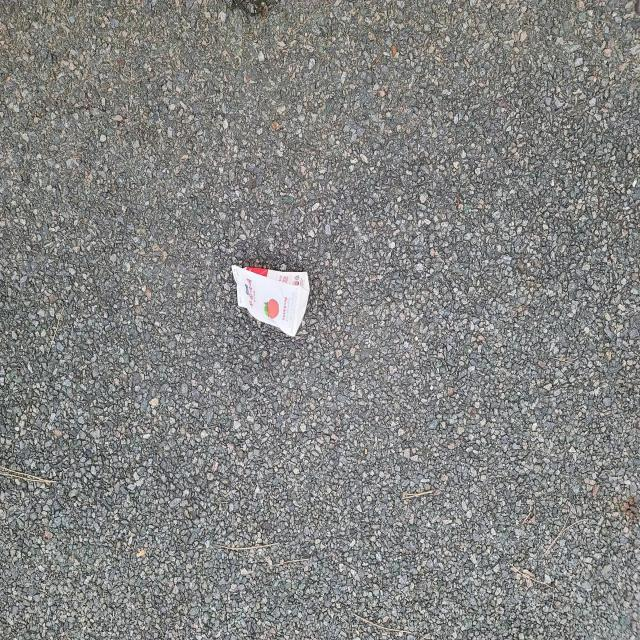paperpack: (231, 264, 310, 337)
